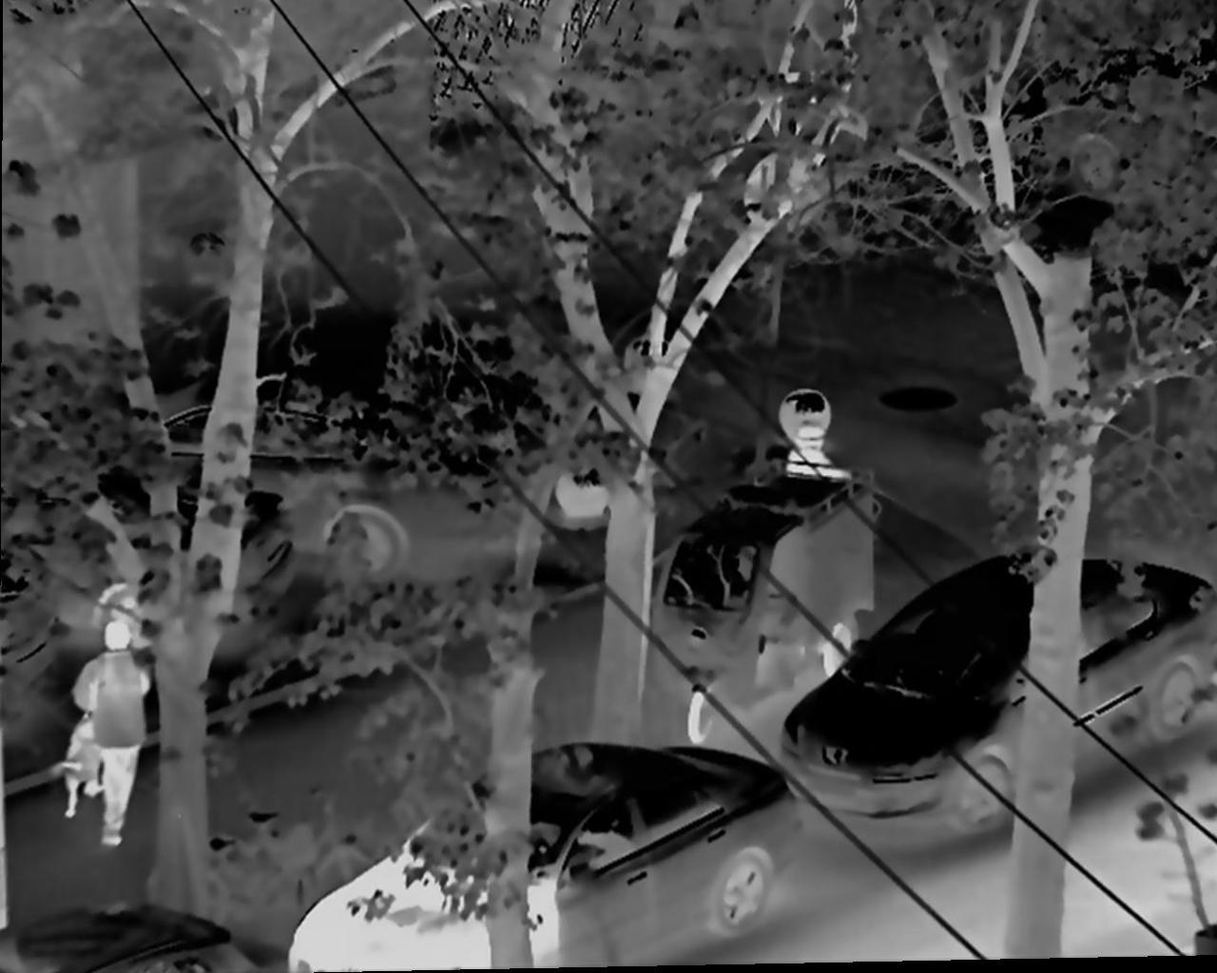person: (65, 609, 149, 849)
